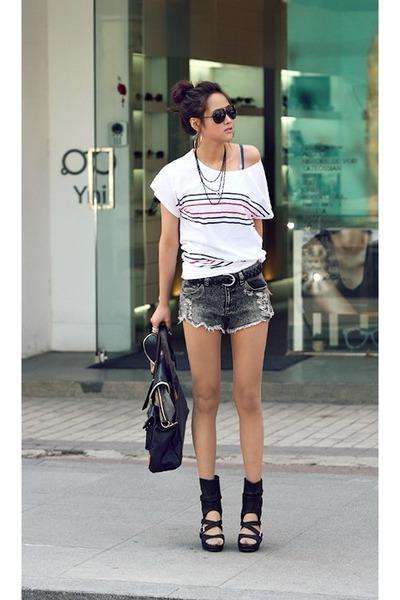bag: (133, 340, 192, 472)
shirt: (150, 156, 273, 278)
shoe: (199, 475, 262, 530)
shorts: (159, 279, 271, 340)
sunglass: (211, 92, 241, 123)
